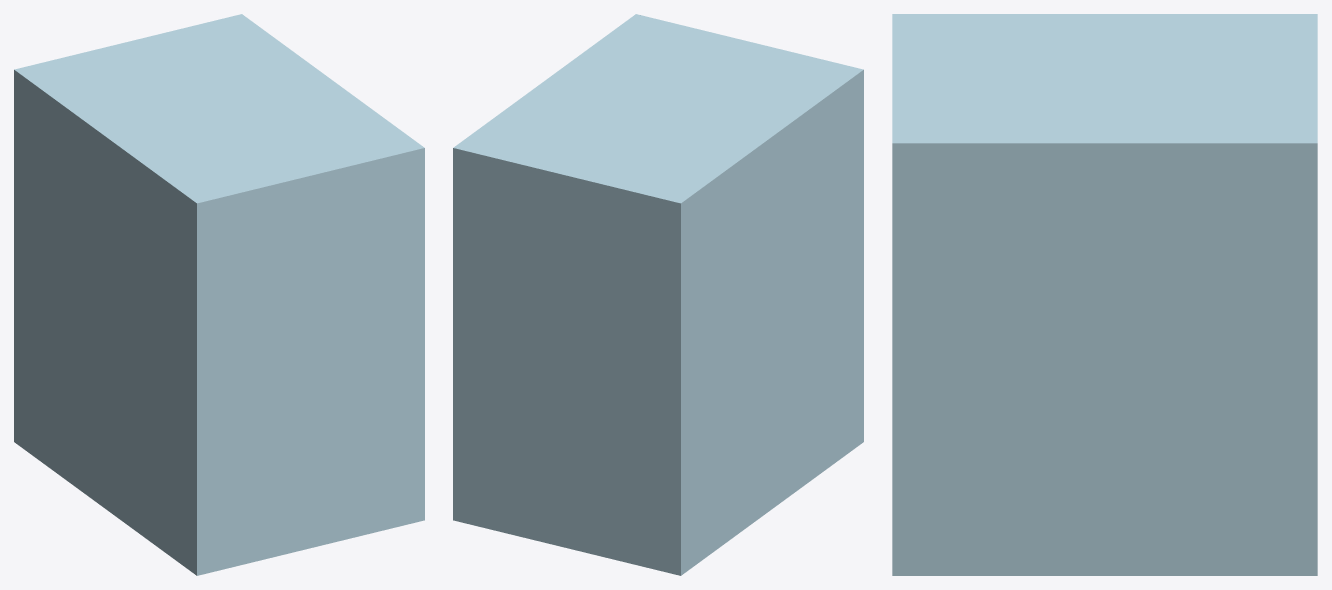
File: Helmet 01.FBX
The picture shows the model from 3 angles, left to right: view 1: azimuth 30°, elevation 25°; view 2: azimuth 150°, elevation 25°; view 3: azimuth 270°, elevation 25°; orthographic projection. The views are drawn at different scales.
Parts seen in each view (by area): view 1: Helmet 01; view 2: Helmet 01; view 3: Helmet 01.
Boxes of the visible parts, left/top/right/bottom form: Helmet 01: left=14, top=14, right=424, bottom=575; Helmet 01: left=453, top=14, right=863, bottom=575; Helmet 01: left=892, top=14, right=1317, bottom=575.
Size of the model in its own units: 27.5 by 43.97 by 38.25.
